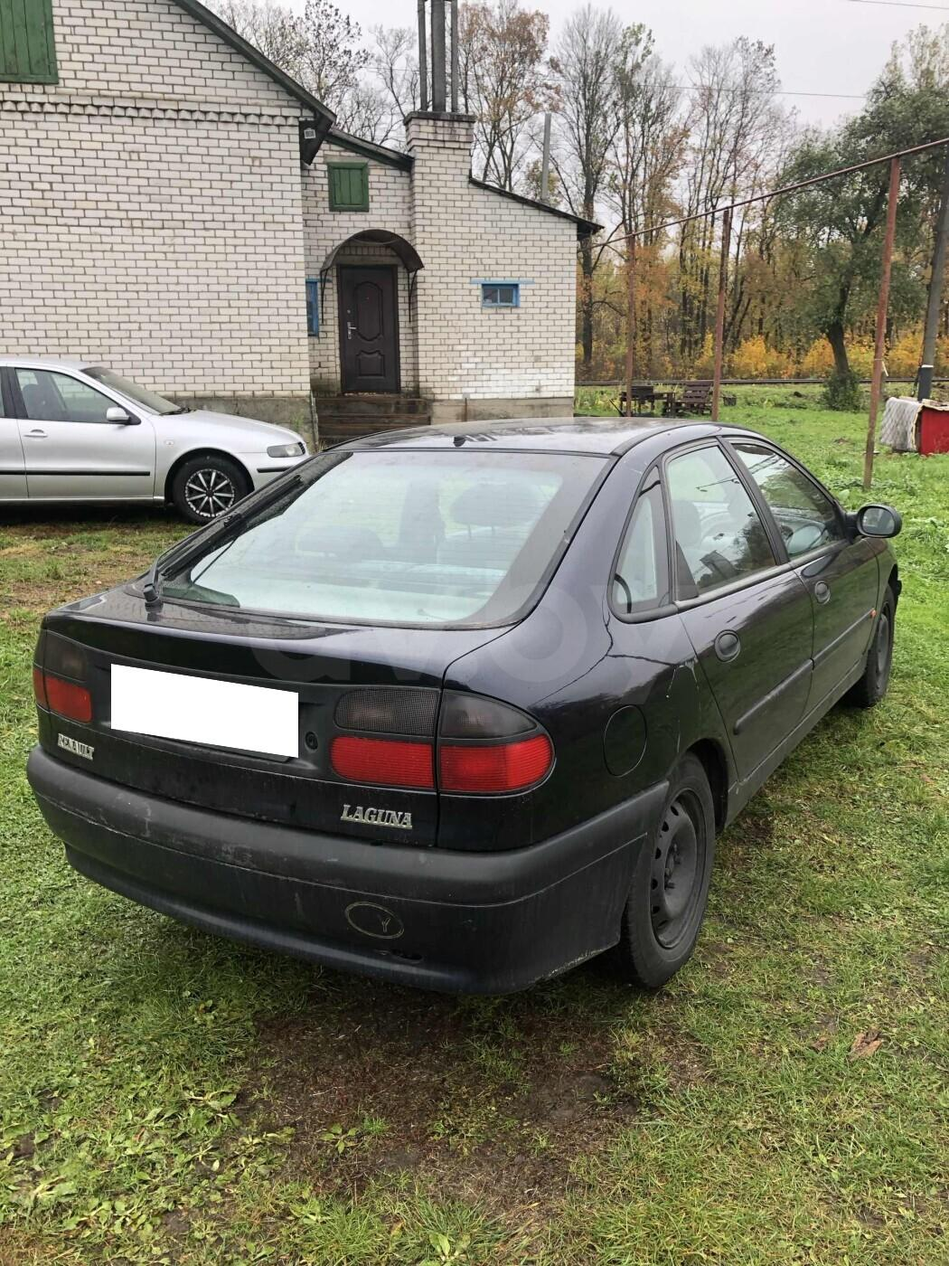Lahuna_1993-1999: (31, 412, 898, 1025)
